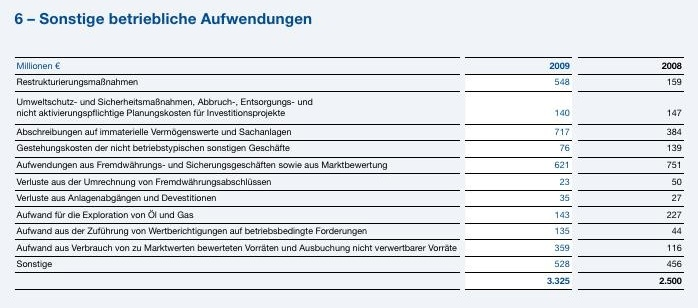table: (0, 0, 698, 308)
